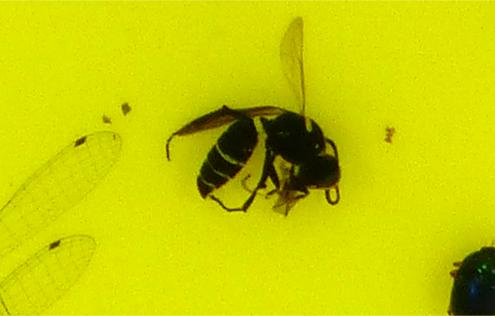Hymenoptera: (163, 101, 342, 216)
